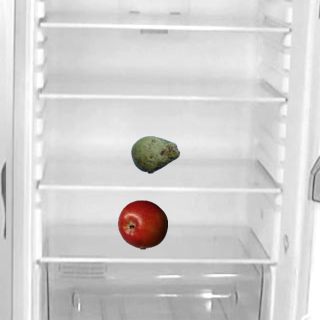Apple Braeburn: (117, 199, 167, 249)
Pear Stone: (130, 129, 180, 179)
